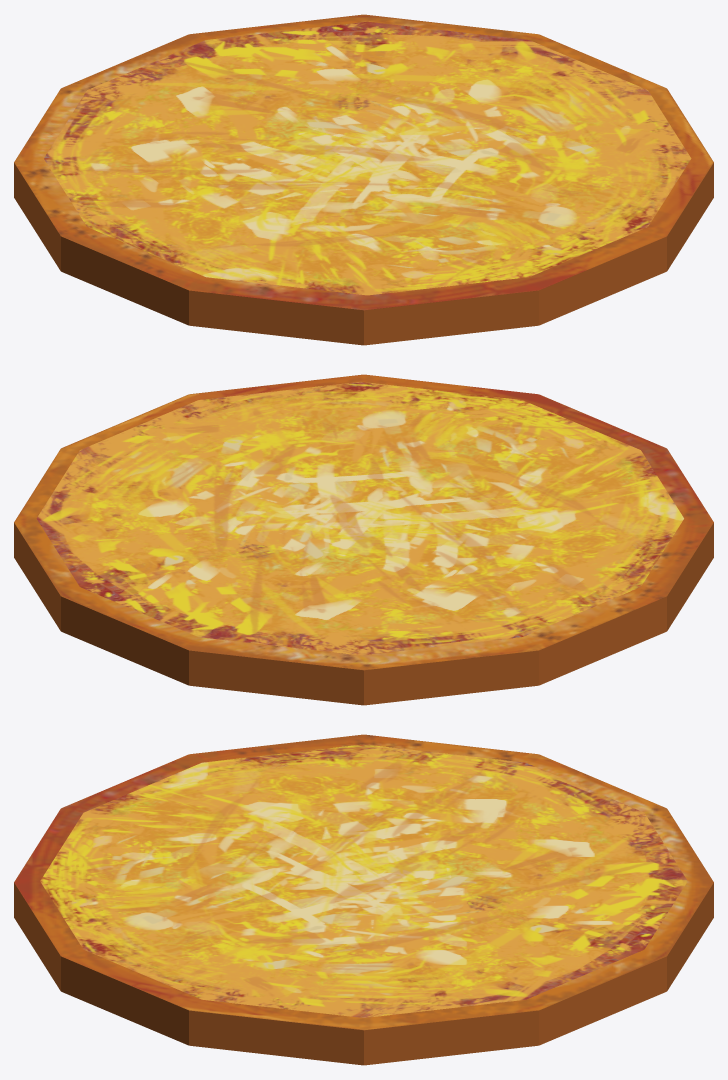
File: SM_Pizza_Base.fbx
3 renders of one model, top to bottom at view 1: azimuth 30°, elevation 25°; view 2: azimuth 150°, elevation 25°; view 3: azimuth 270°, elevation 25°, orthographic.
Visible parts, largest first — view 1: Pizza_Base; view 2: Pizza_Base; view 3: Pizza_Base.
Boxes of the visible parts, bbox=[...] form: Pizza_Base: bbox=[14, 14, 713, 345]; Pizza_Base: bbox=[14, 374, 713, 705]; Pizza_Base: bbox=[14, 734, 713, 1065].
Size of the model in its own units: 15.37 by 0.9236 by 15.37.
